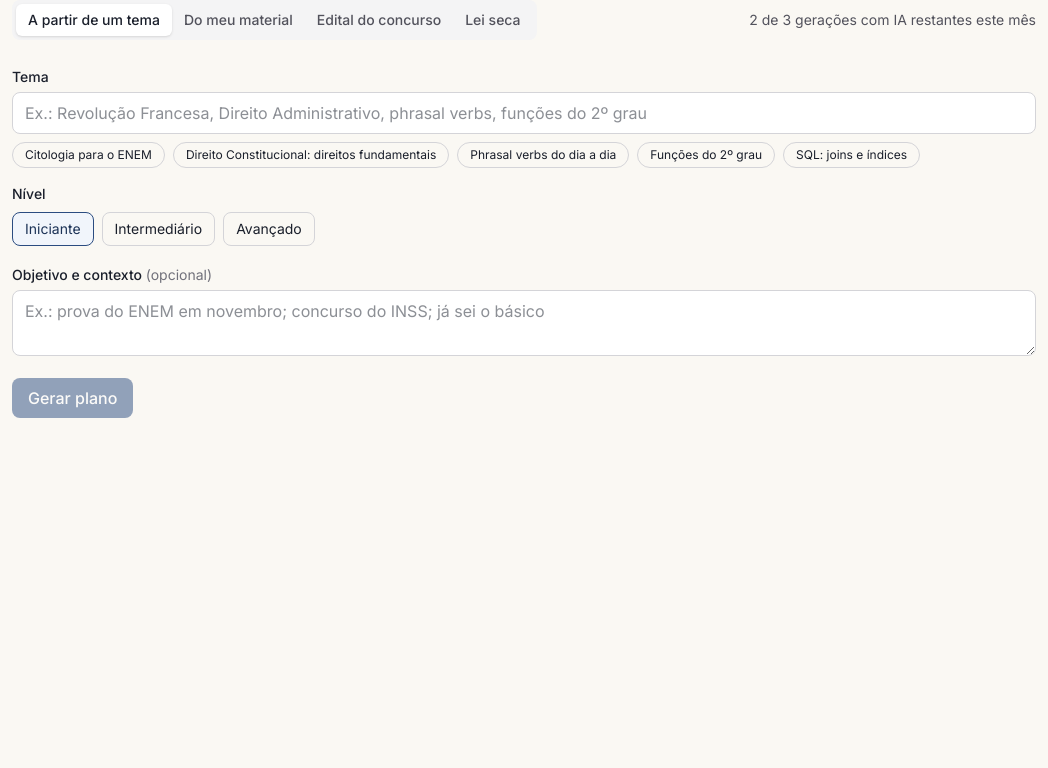
Test case: Novo tema › no plano grátis, PDF e foto mostram o convite para assinar
The image size is (1048, 768).
Expected: the text "2 de 3 gerações com IA restantes este mês" is shown, [749,10,1036,30]
Click the tab "Do meu material". click: (238,20)
box: [172,4,305,36]
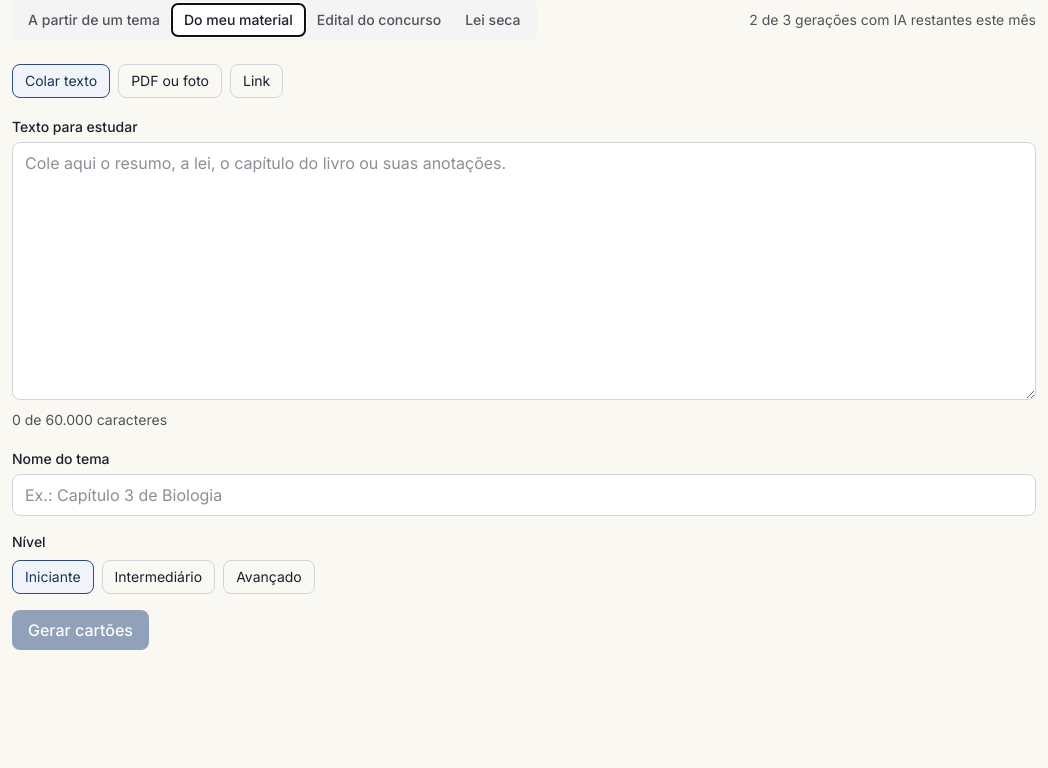
Click the button "PDF ou foto". click: (170,81)
box: [118,64,222,98]
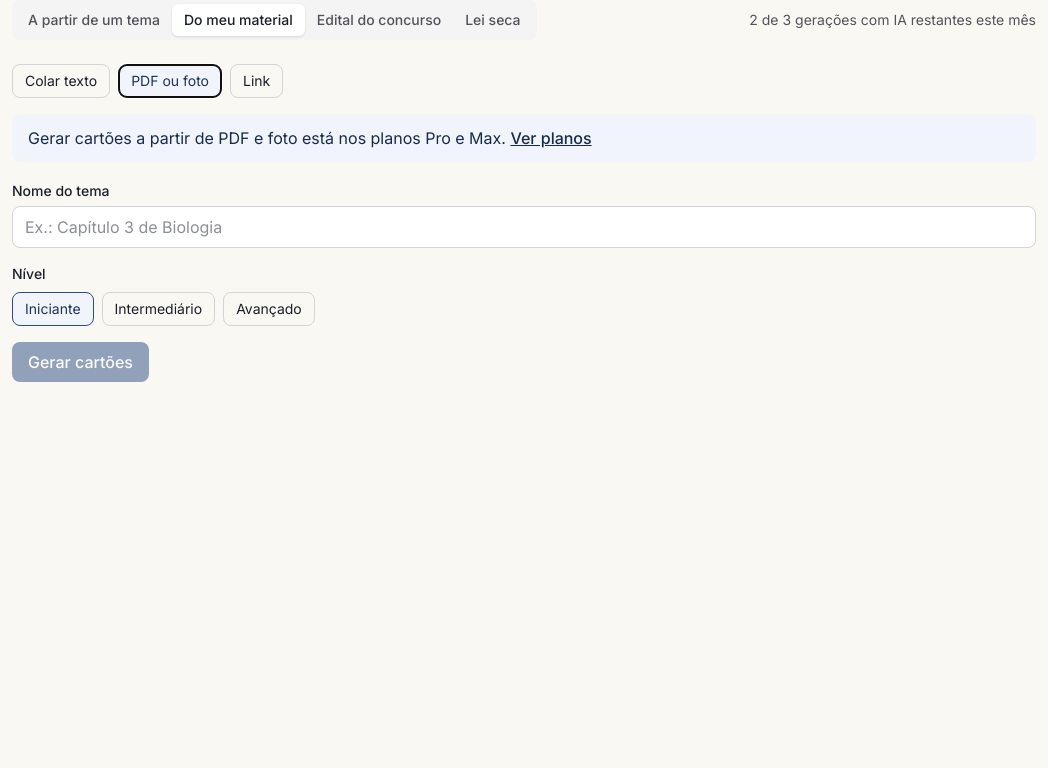
Result: the text "está nos planos Pro e Max" is shown at [28,128,506,148]
